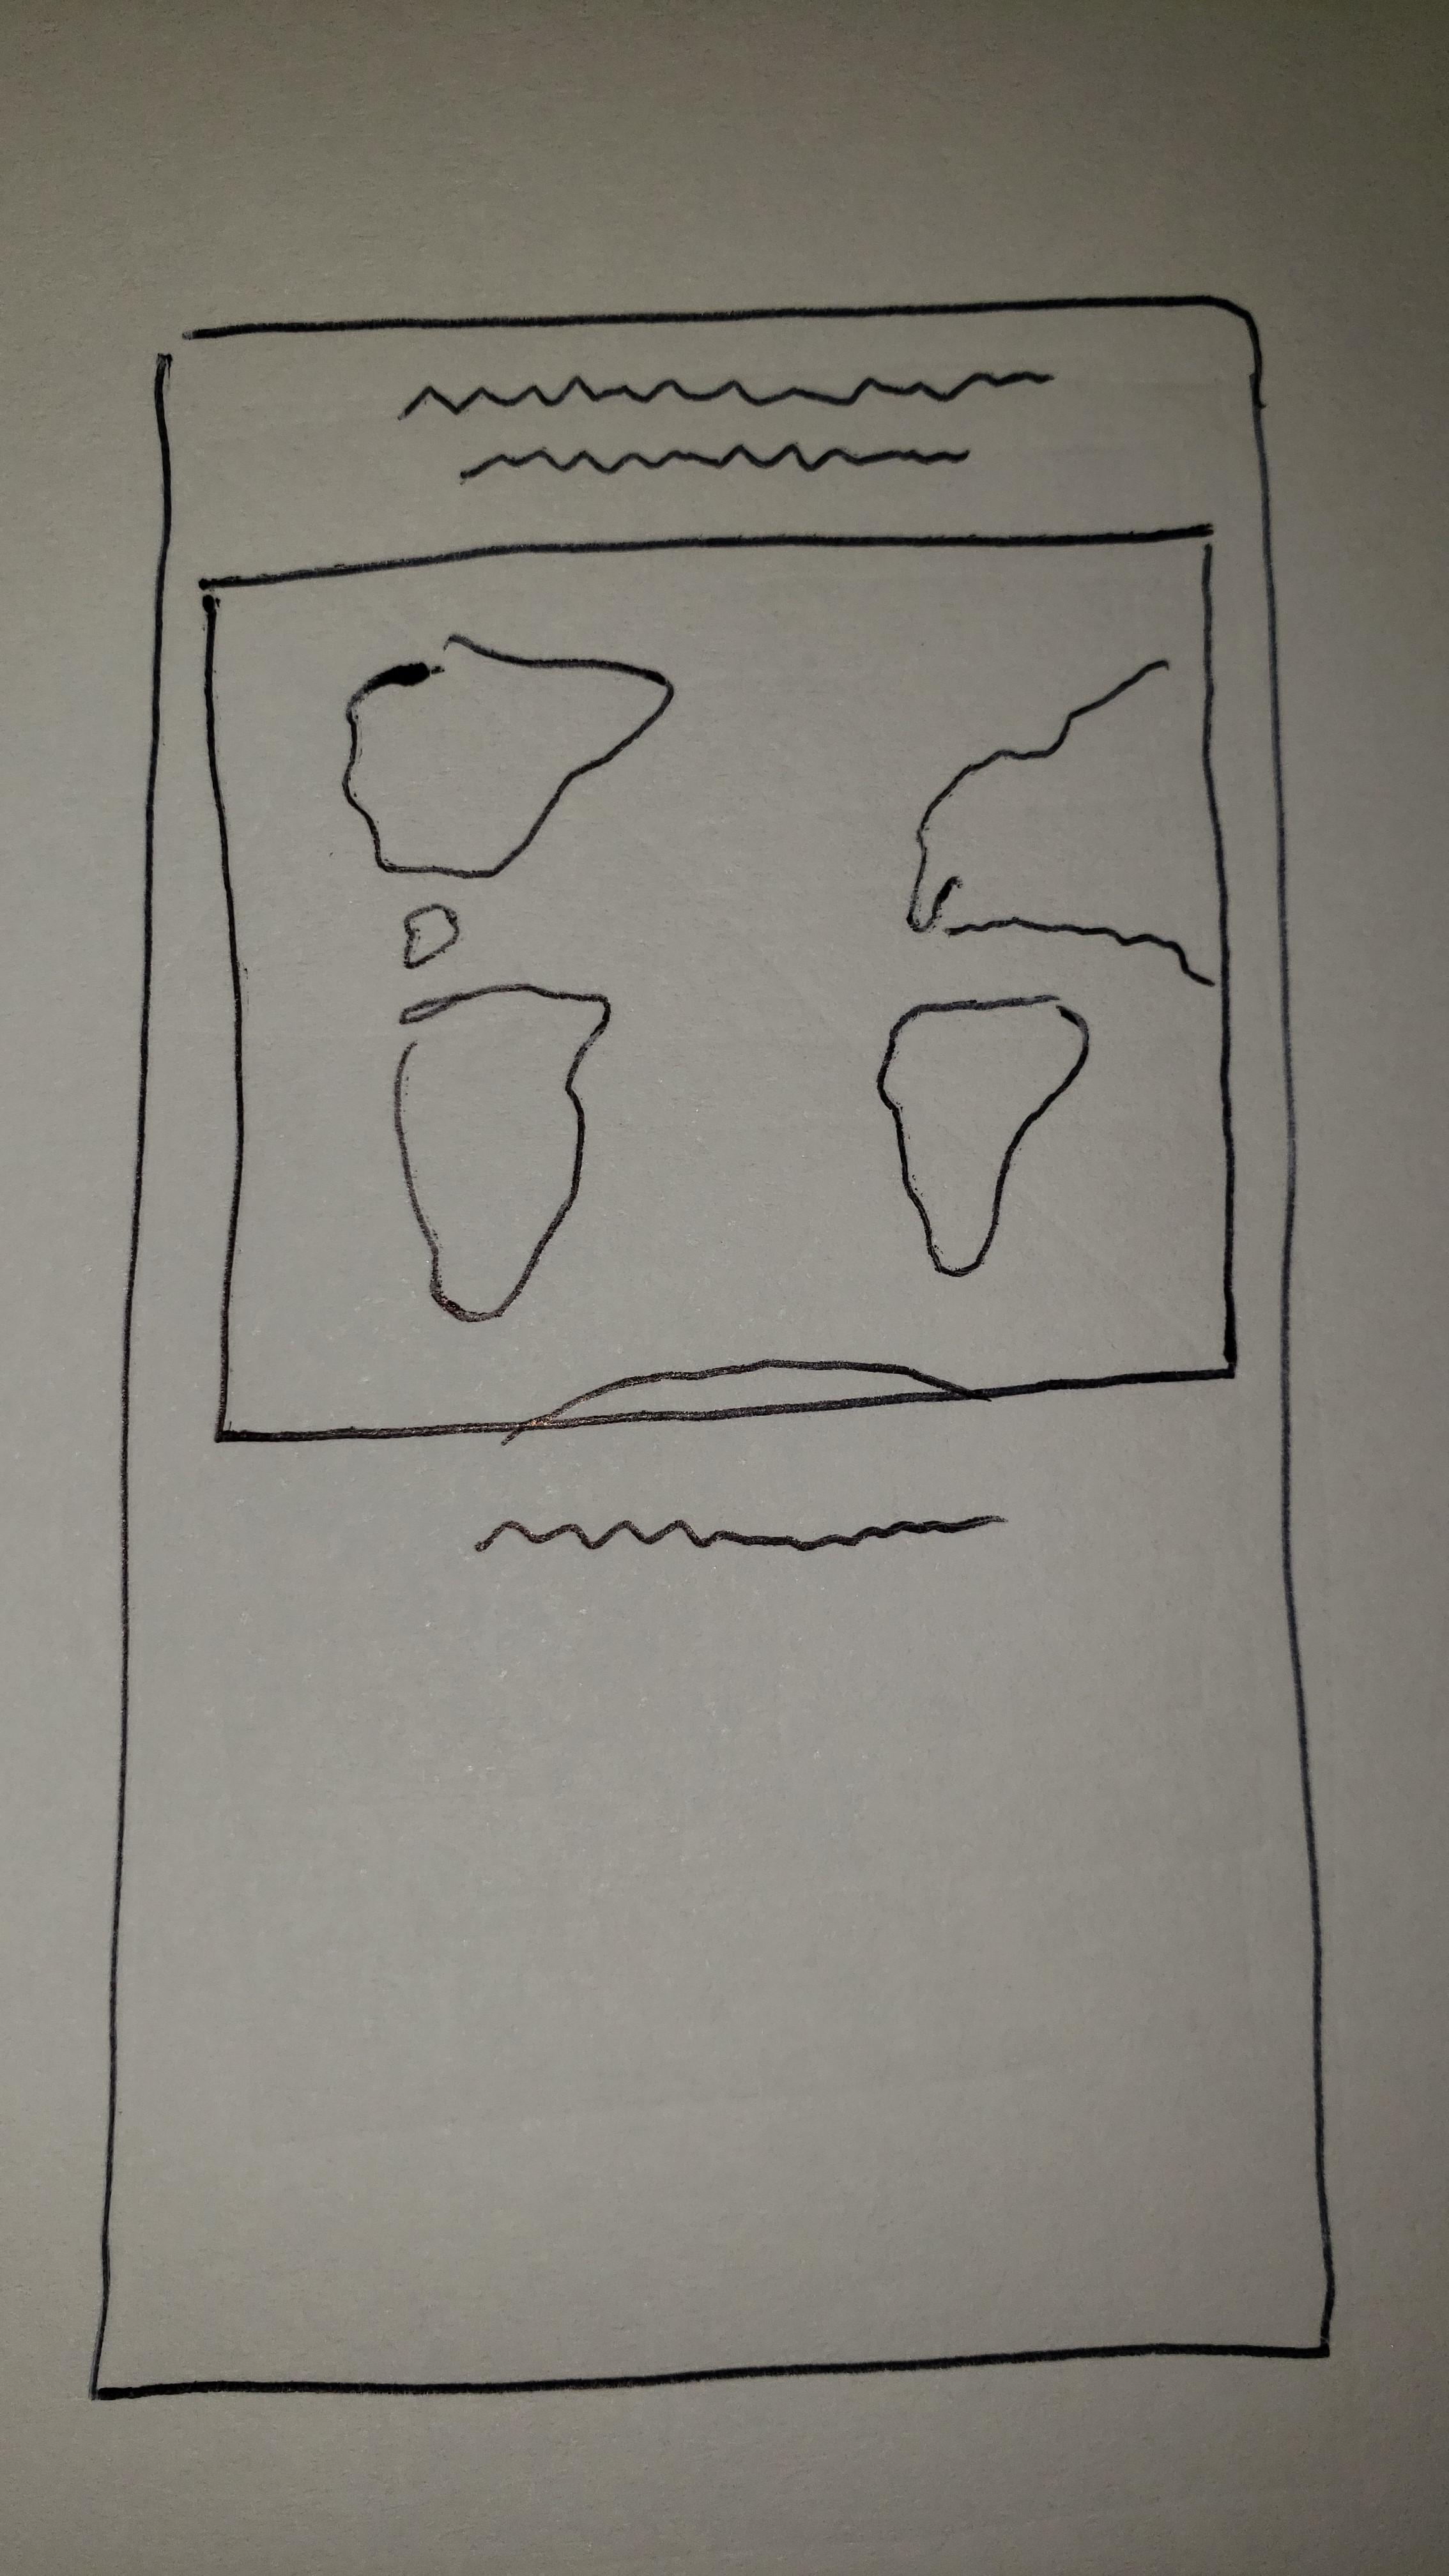Label: (387, 366, 1063, 488), (472, 1509, 1008, 1553)
Map: (202, 522, 1238, 1444)
Screen: (88, 299, 1338, 2406)
